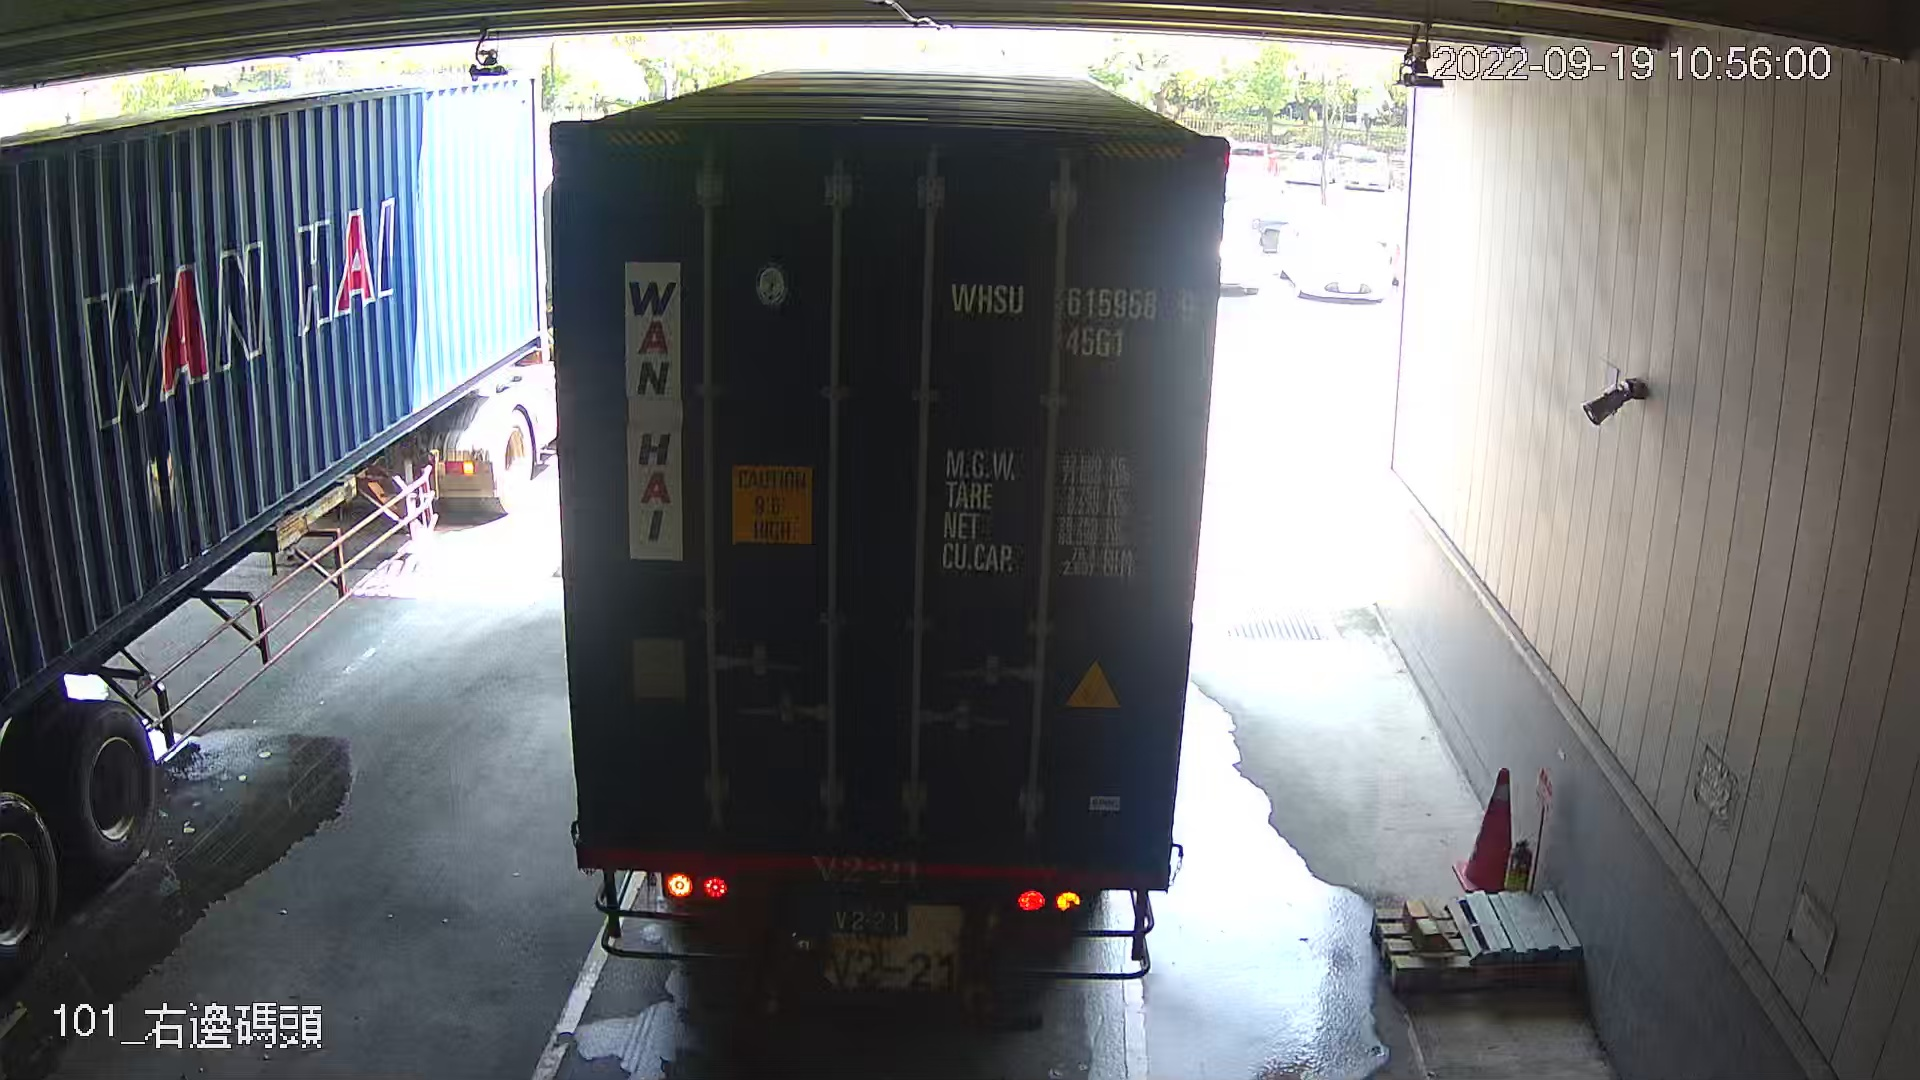container: (942, 270, 1207, 364)
